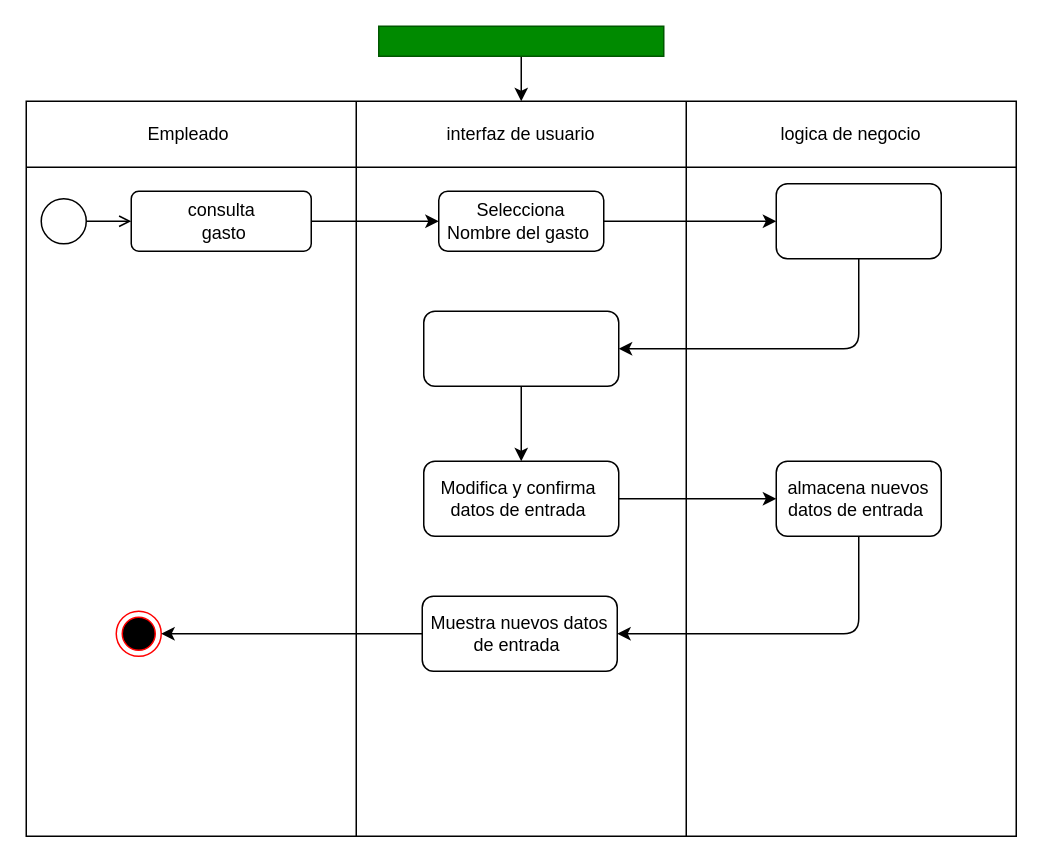
The diagram is 1043 pixels wide and 863 high, and some of its shapes have lost their labels. The shapes that lost their labels are listed below. From the top down, each one's centre as x and y in pixels, then its label:
(520,40): ACTUALIZAR TIPO DE GASTO
(858,220): Consulta datos de entrada
(520,348): Muestra datos de entrada
